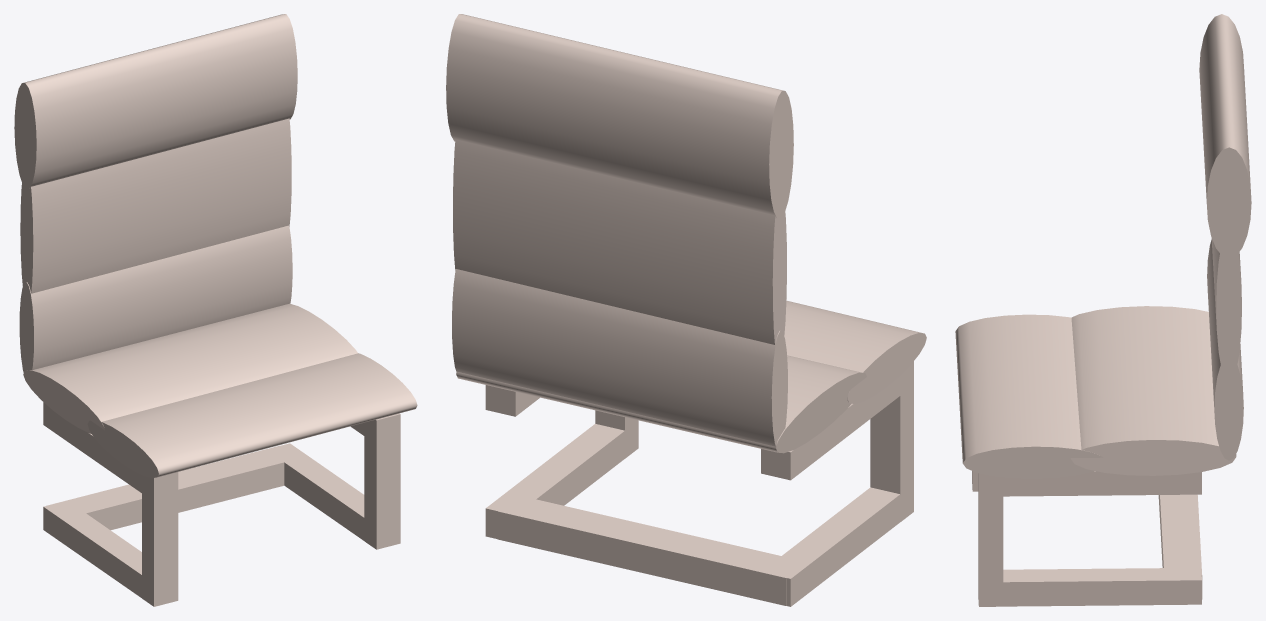
File: Chair v1.fbx
The picture shows the model from 3 angles, left to right: view 1: azimuth 30°, elevation 25°; view 2: azimuth 150°, elevation 25°; view 3: azimuth 270°, elevation 25°; orthographic projection. The views are drawn at different scales.
Visible parts, largest first — view 1: pasted__group9_pasted__group8_pasted__pasted__pCube4; view 2: pasted__group9_pasted__group8_pasted__pasted__pCube4; view 3: pasted__group9_pasted__group8_pasted__pasted__pCube4.
Part boxes in pixels (x1,y1,x2,y2): pasted__group9_pasted__group8_pasted__pasted__pCube4: [14, 14, 417, 606]; pasted__group9_pasted__group8_pasted__pasted__pCube4: [446, 14, 926, 606]; pasted__group9_pasted__group8_pasted__pasted__pCube4: [955, 14, 1251, 606].
Bounding box in the file's own units: 3.94 × 6.17 × 3.58.
